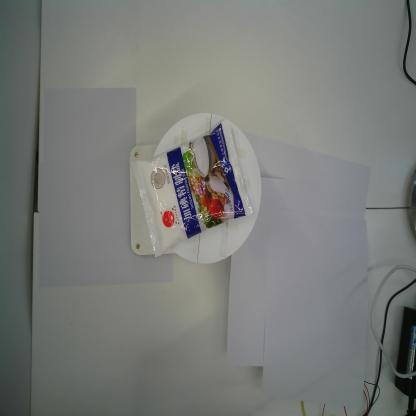Seasoner: (129, 116, 255, 260)
